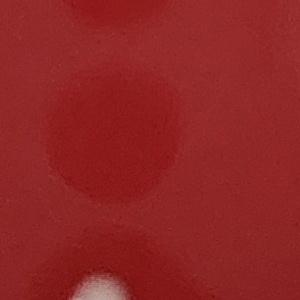colony: (50, 265, 146, 300)
